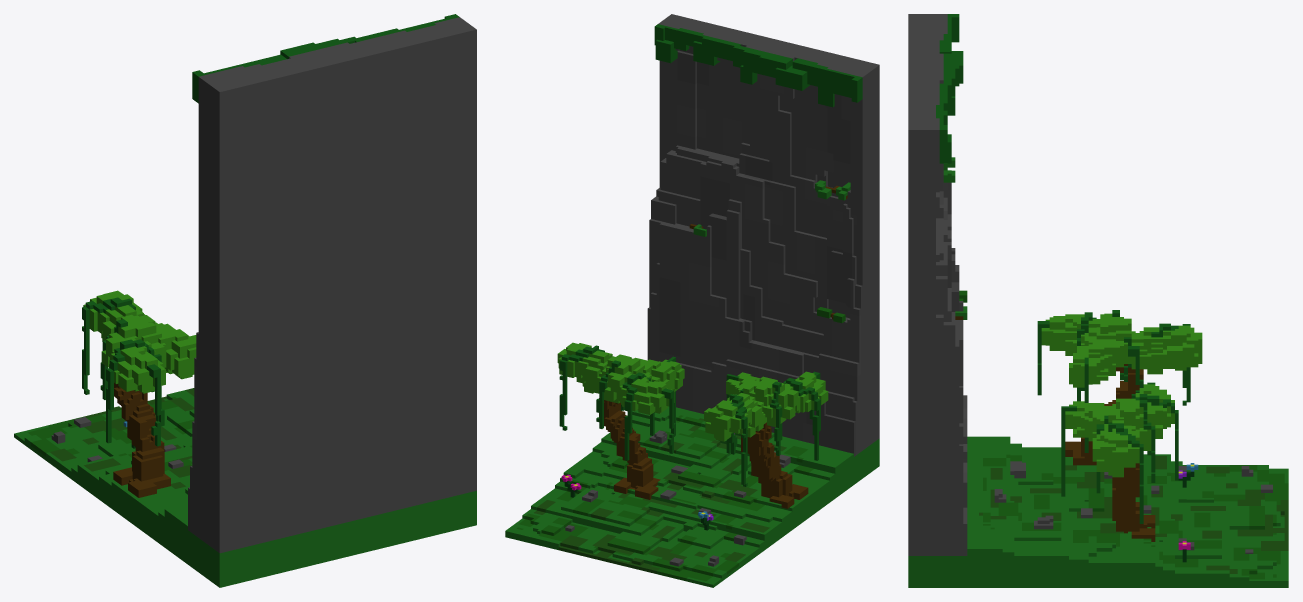
File: meadow_with_tree_02.obj
The picture shows the model from 3 angles, left to right: view 1: azimuth 30°, elevation 25°; view 2: azimuth 150°, elevation 25°; view 3: azimuth 270°, elevation 25°; orthographic projection. The views are drawn at different scales.
Size of the model in its own units: 8.1 by 12.9 by 9.7.
1 material, 1 textured.
